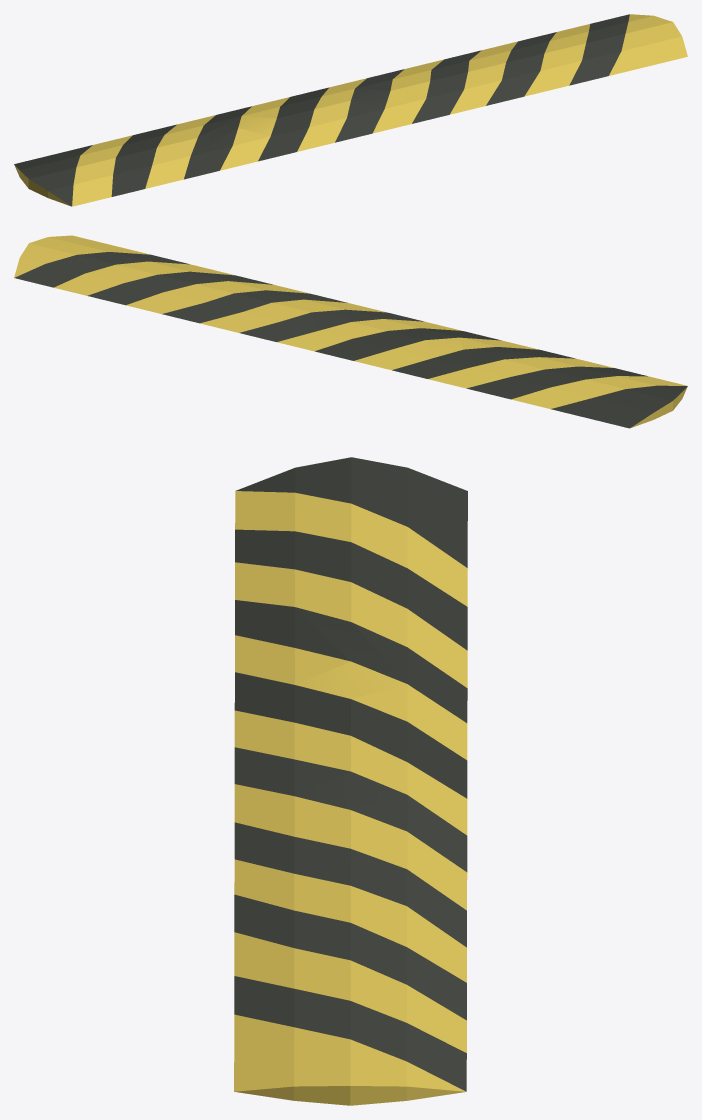
Rendered from Speed_Bump.glb.
The picture shows the model from 3 angles, top to bottom: view 1: azimuth 30°, elevation 25°; view 2: azimuth 150°, elevation 25°; view 3: azimuth 270°, elevation 25°; orthographic projection. The views are drawn at different scales.
Parts seen in each view (by area): view 1: Road_Bump; view 2: Road_Bump; view 3: Road_Bump.
Boxes of the visible parts, bbox=[...] form: Road_Bump: bbox=[14, 14, 687, 206]; Road_Bump: bbox=[14, 235, 687, 428]; Road_Bump: bbox=[234, 457, 467, 1105].
Size of what is drawn, in the model's own units: 7.35 by 0.1085 by 1.16.
1 material, 1 textured.
